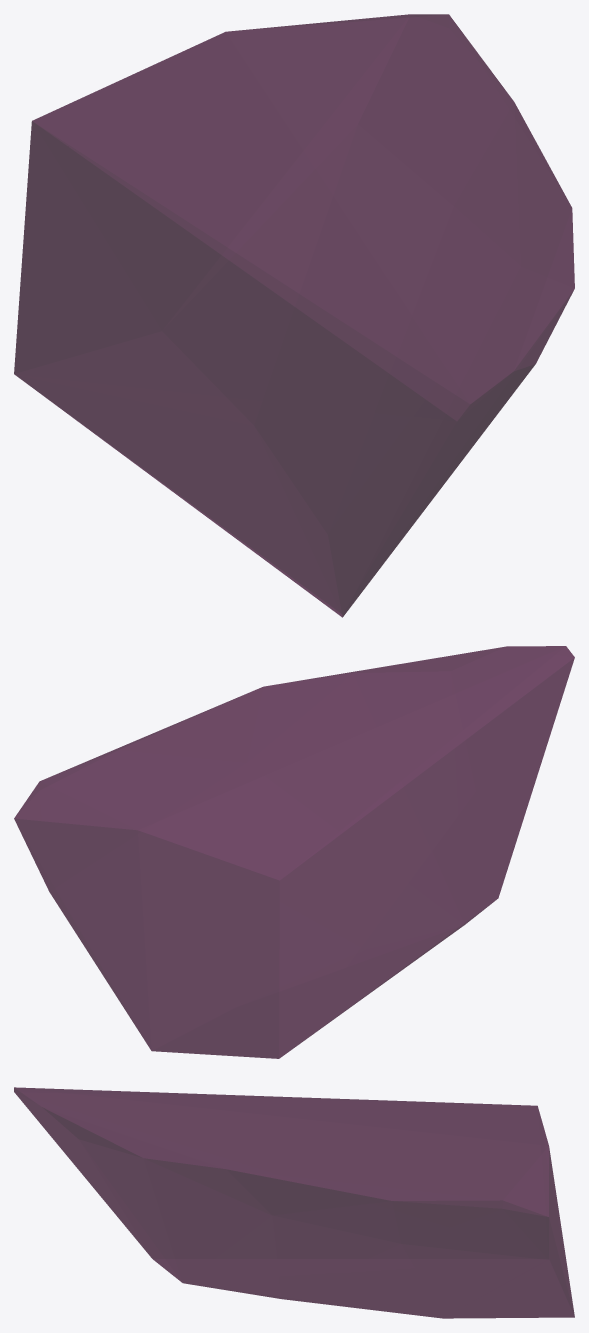
3 views of the same model, one above another, from view 1: azimuth 30°, elevation 25°; view 2: azimuth 150°, elevation 25°; view 3: azimuth 270°, elevation 25° (orthographic). The views are drawn at different scales.
Parts seen in each view (by area): view 1: Shape_IndexedFaceSet.009_Shape_IndexedFaceSet.7495; view 2: Shape_IndexedFaceSet.009_Shape_IndexedFaceSet.7495; view 3: Shape_IndexedFaceSet.009_Shape_IndexedFaceSet.7495.
Part boxes in pixels (x1,y1,x2,y2): Shape_IndexedFaceSet.009_Shape_IndexedFaceSet.7495: (14,14,574,617); Shape_IndexedFaceSet.009_Shape_IndexedFaceSet.7495: (14,646,574,1058); Shape_IndexedFaceSet.009_Shape_IndexedFaceSet.7495: (14,1087,574,1318).
Bounding box in the file's own units: 0.2216 × 0.1699 × 0.4492.
